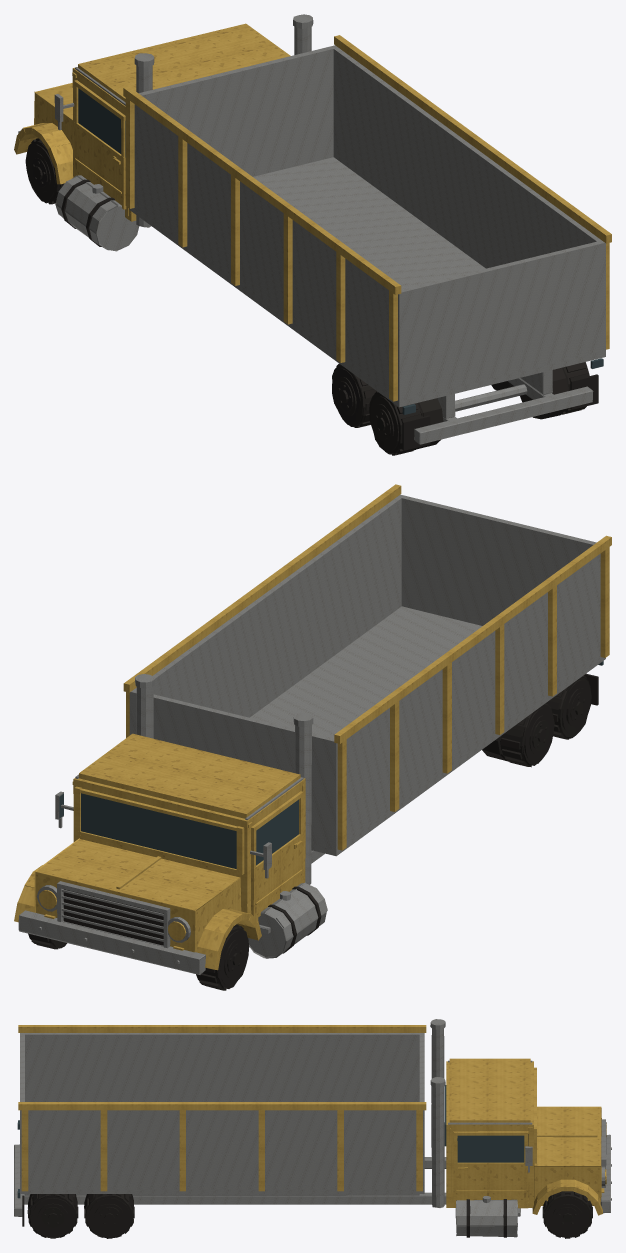
Rendered from heavy_hauler.glb.
3 views of the same model, one above another, from view 1: azimuth 30°, elevation 25°; view 2: azimuth 150°, elevation 25°; view 3: azimuth 270°, elevation 25° (orthographic). The views are drawn at different scales.
Visible parts, largest first — view 1: HeavyHauler, Tailgate, Door_L, Wheel_L3, Wheel_L2, Glass_L, Wheel_L1, Wheel_R3; view 2: HeavyHauler, Tailgate, Door_L, Wheel_L2, Wheel_L3, Wheel_L1, Glass_L; view 3: HeavyHauler, Door_R, Wheel_R3, Wheel_R2, Wheel_R1, Glass_R, Tailgate.
Boxes of the visible parts, x1,y1,x2,y2 form: HeavyHauler: [14, 14, 611, 450]; Tailgate: [402, 241, 600, 399]; Door_L: [74, 80, 126, 209]; Wheel_L3: [369, 391, 443, 455]; Wheel_L2: [332, 363, 376, 427]; Glass_L: [78, 88, 125, 157]; Wheel_L1: [25, 138, 64, 204]; Wheel_R3: [520, 362, 589, 419]; HeavyHauler: [14, 484, 611, 974]; Tailgate: [401, 495, 596, 625]; Door_L: [251, 791, 303, 918]; Wheel_L2: [482, 702, 554, 767]; Wheel_L3: [547, 675, 591, 739]; Wheel_L1: [196, 924, 249, 990]; Glass_L: [256, 799, 298, 865]; HeavyHauler: [14, 1019, 611, 1237]; Door_R: [453, 1131, 528, 1202]; Wheel_R3: [27, 1194, 78, 1238]; Wheel_R2: [84, 1194, 134, 1238]; Wheel_R1: [542, 1191, 592, 1238]; Glass_R: [457, 1135, 524, 1162]; Tailgate: [20, 1034, 24, 1101].
Bounding box in the file's own units: 3.41 × 2.86 × 10.09.
Materials: 4 (2 with a texture image).
